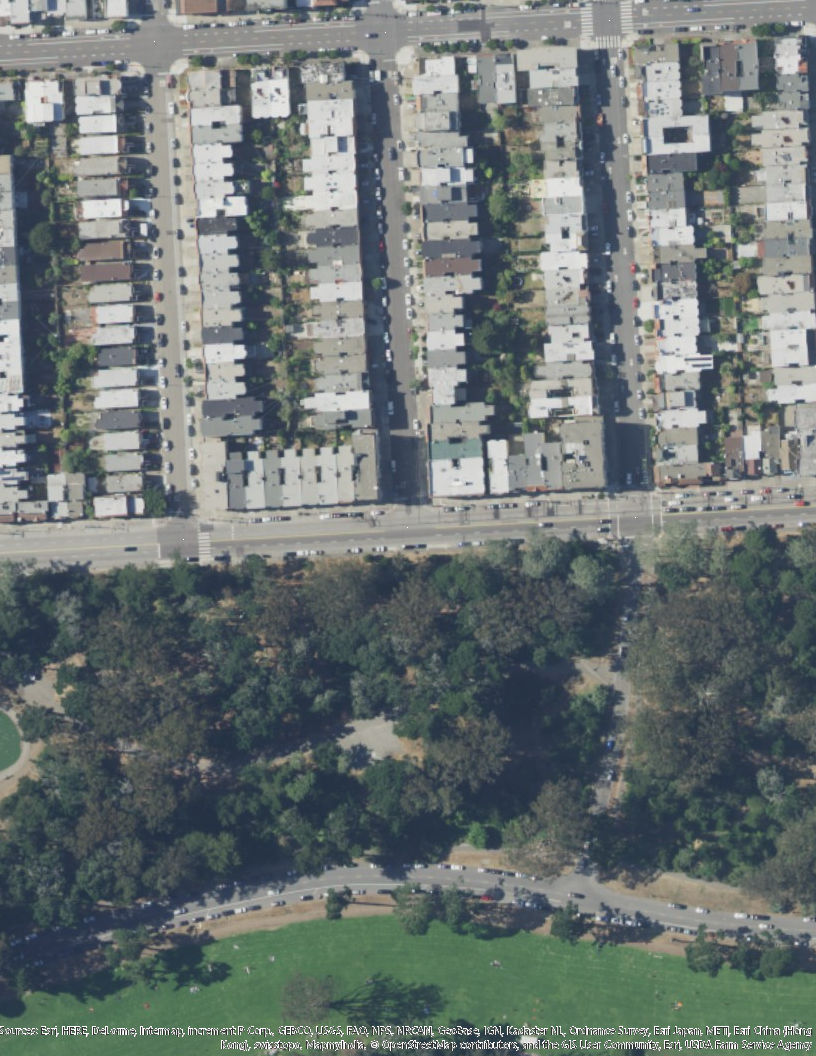zebracross: (197, 523, 214, 566), (618, 2, 636, 35), (579, 2, 595, 38), (595, 36, 622, 49)
